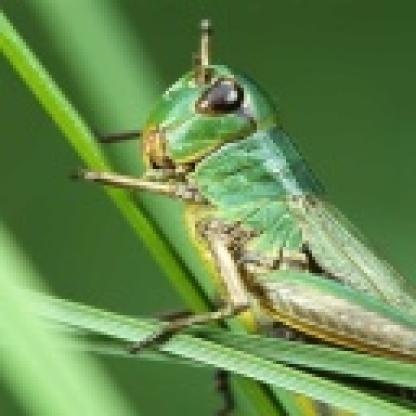grasshopper: (79, 21, 416, 364)
